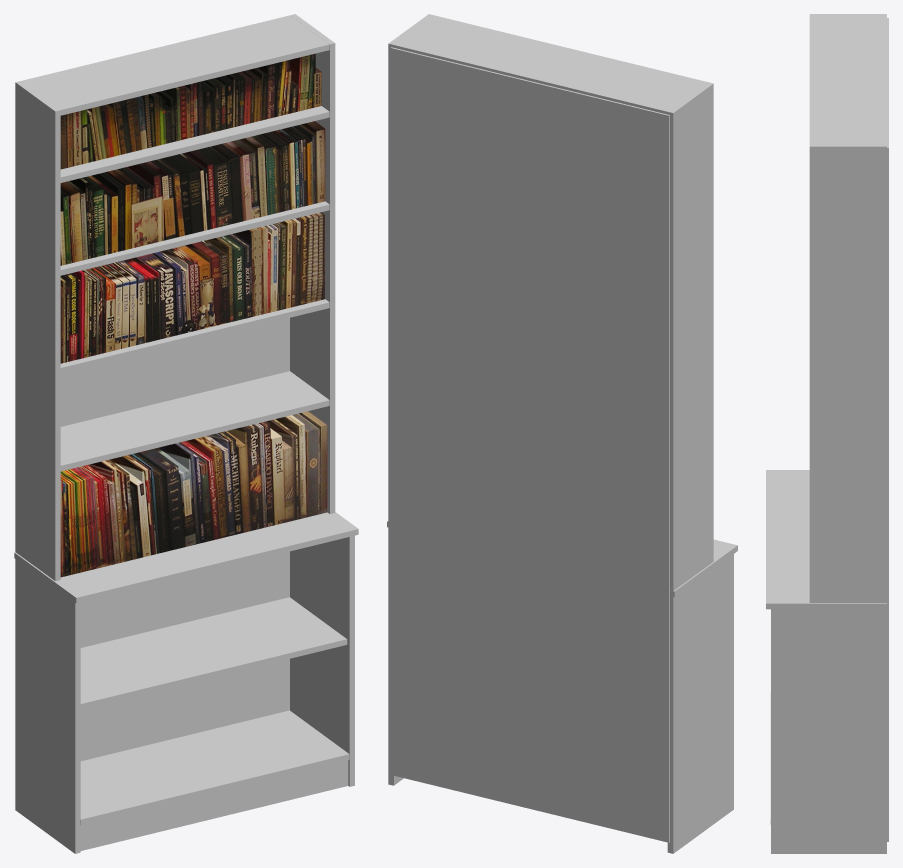
Rendered from sweethome3d-katorlegaz-full-bookcase-79.glb.
3 views of the same model, side by side, from view 1: azimuth 30°, elevation 25°; view 2: azimuth 150°, elevation 25°; view 3: azimuth 270°, elevation 25° (orthographic). The views are drawn at different scales.
Parts seen in each view (by area): view 1: Bookcase, Books_4, Books_3, Books_2, Books_1; view 2: Bookcase; view 3: Bookcase.
Part boxes in pixels (left/top/right/bottom): Bookcase: left=14, top=14, right=358, bottom=853; Books_4: left=60, top=411, right=327, bottom=577; Books_3: left=60, top=212, right=324, bottom=363; Books_2: left=60, top=121, right=325, bottom=265; Books_1: left=60, top=53, right=321, bottom=169; Bookcase: left=387, top=14, right=737, bottom=853; Bookcase: left=766, top=14, right=888, bottom=853.
Bounding box in the file's own units: 80.08 × 197 × 31.
5 materials, 4 textured.
